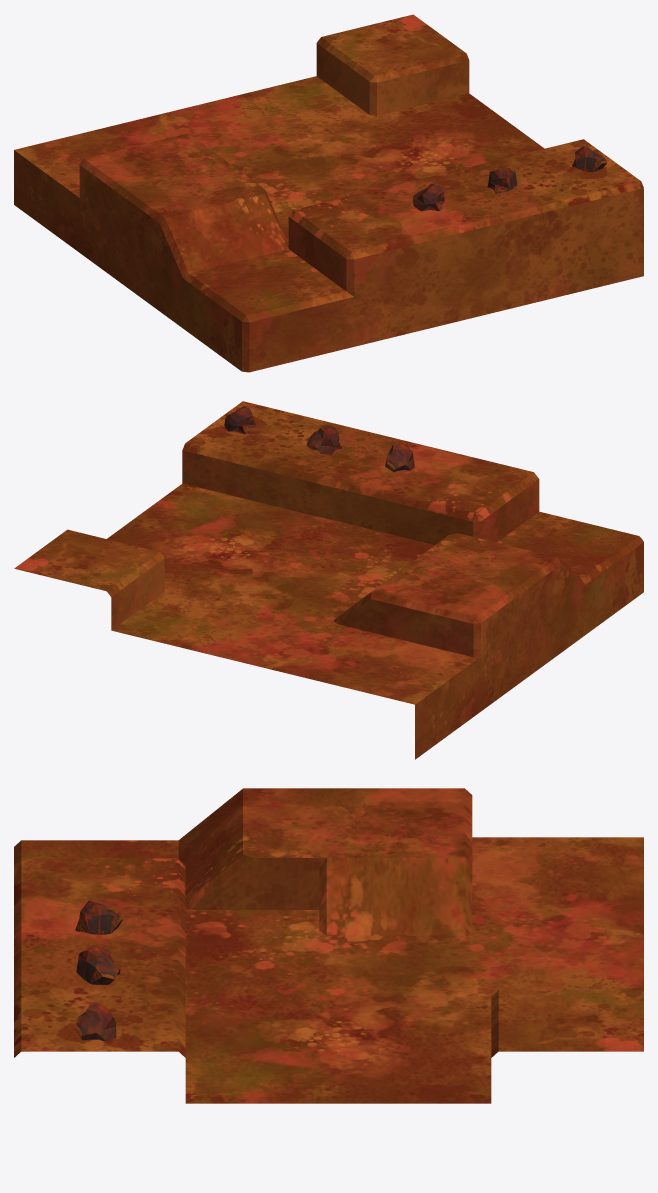
Rendered from lvl_2-cnk_2.obj.
3 views of the same model, one above another, from view 1: azimuth 30°, elevation 25°; view 2: azimuth 150°, elevation 25°; view 3: azimuth 270°, elevation 25° (orthographic). The views are drawn at different scales.
Parts seen in each view (by area): view 1: Cube.108, Icosphere.022, Icosphere.024, Icosphere.023; view 2: Cube.108, Icosphere.023, Icosphere.022, Icosphere.024; view 3: Cube.108, Icosphere.023, Icosphere.024, Icosphere.022.
Part boxes in pixels (x1,y1,x2,y2): Cube.108: (14, 14, 643, 372); Icosphere.022: (413, 183, 444, 211); Icosphere.024: (572, 145, 606, 171); Icosphere.023: (487, 168, 517, 193); Cube.108: (14, 401, 643, 759); Icosphere.023: (306, 424, 342, 454); Icosphere.022: (385, 443, 414, 472); Icosphere.024: (224, 406, 255, 434); Cube.108: (14, 788, 643, 1103); Icosphere.023: (76, 947, 120, 984); Icosphere.024: (75, 1002, 116, 1041); Icosphere.022: (75, 900, 122, 934).
Size of the model in its own units: 99 by 27 by 99.
Materials: 1 (1 with a texture image).
